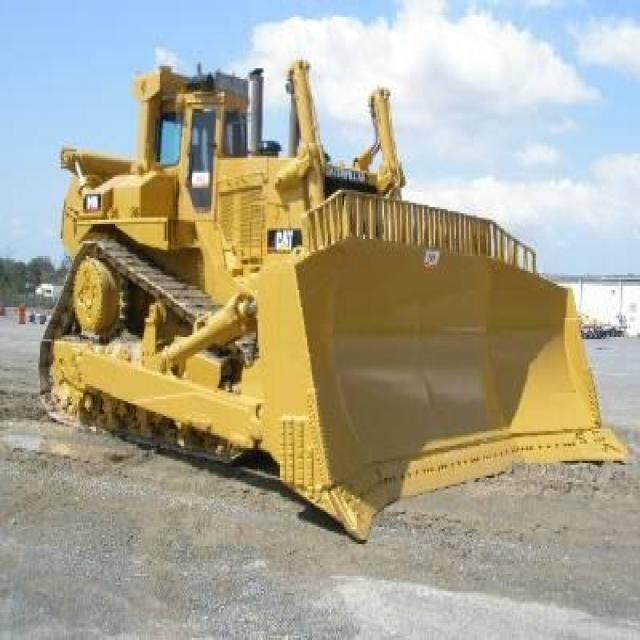buldozerpayloadergrader: (27, 47, 634, 544)
